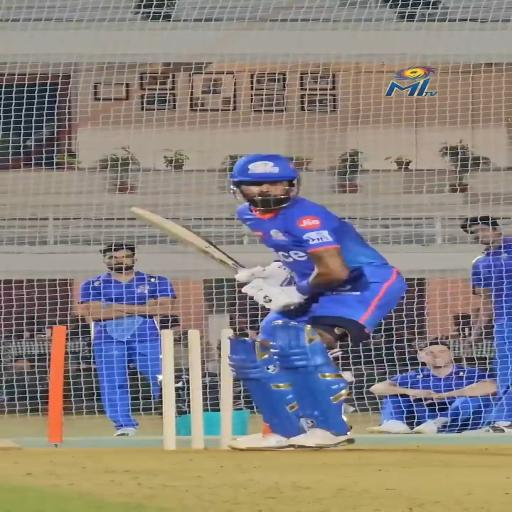Cricket bat: (131, 207, 245, 273)
